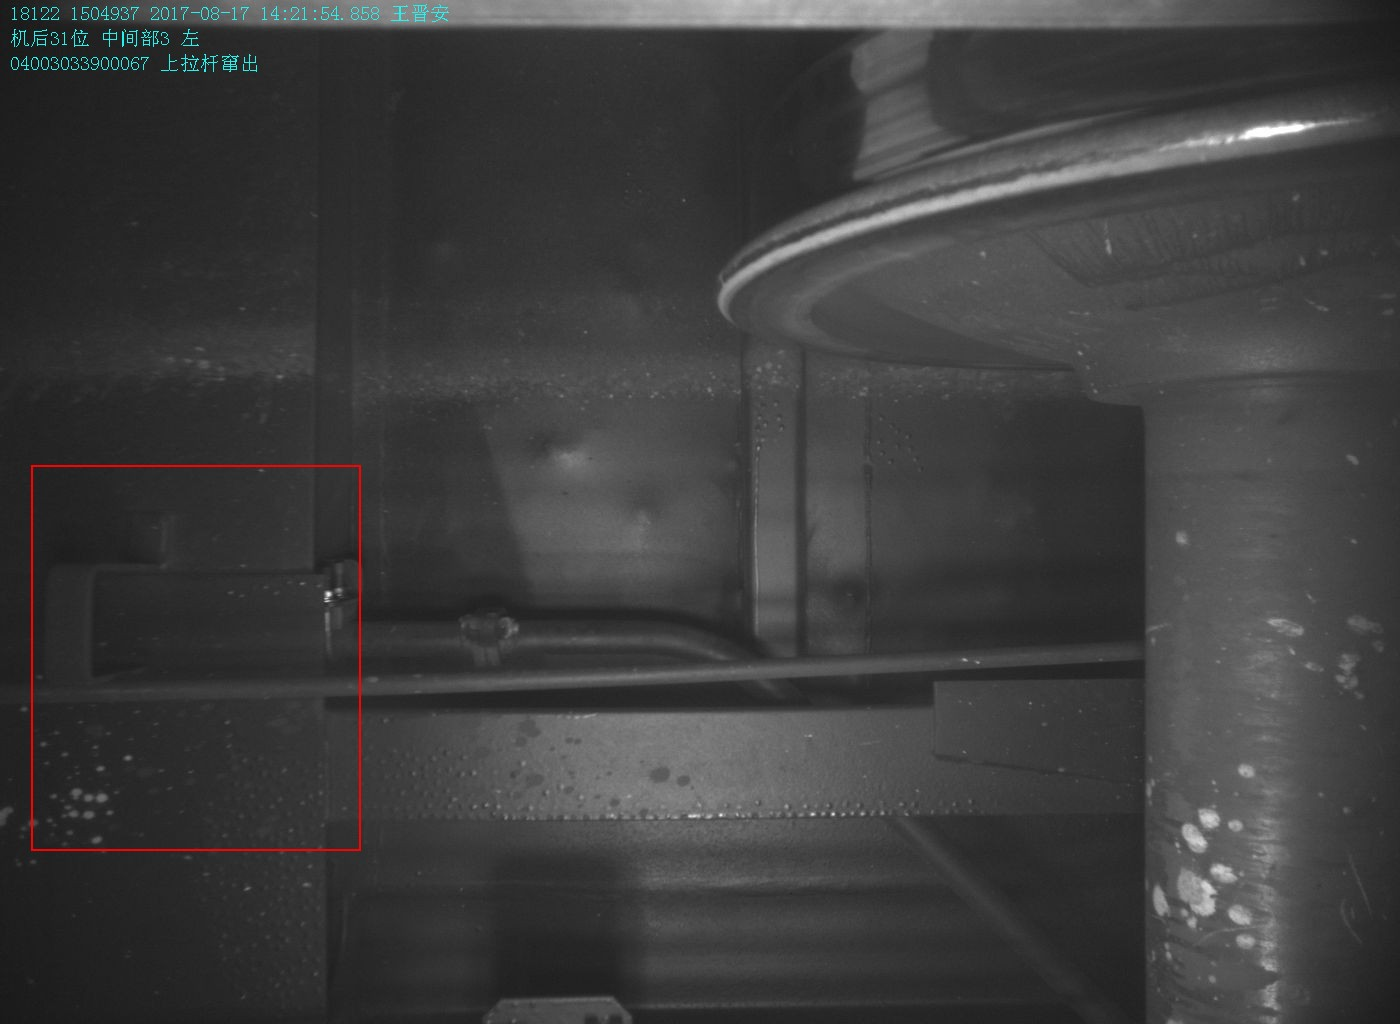normal: (42, 516, 177, 711)
